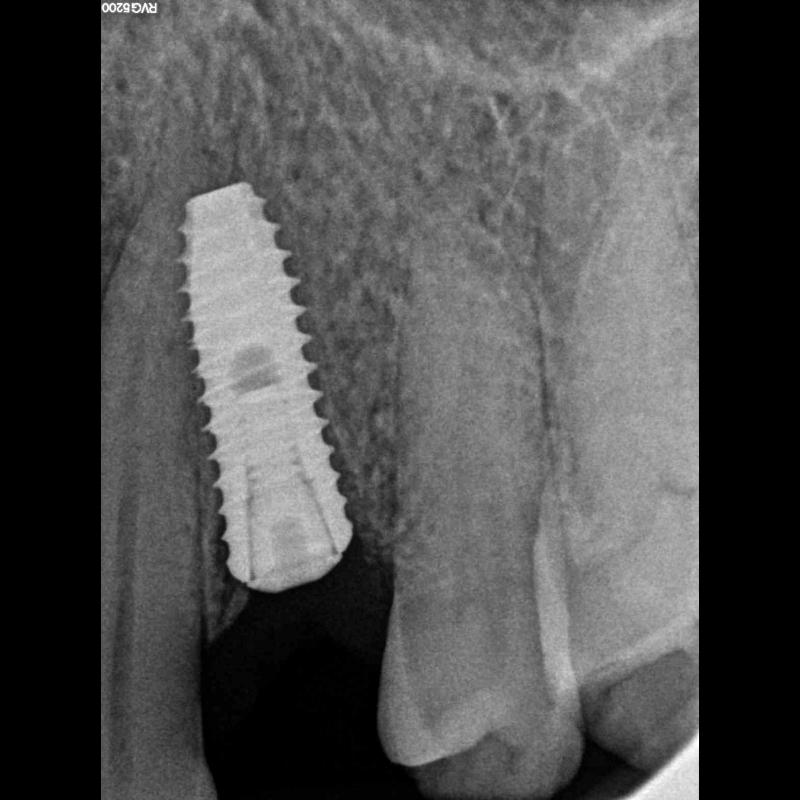Dentium: (172, 176, 357, 596)
